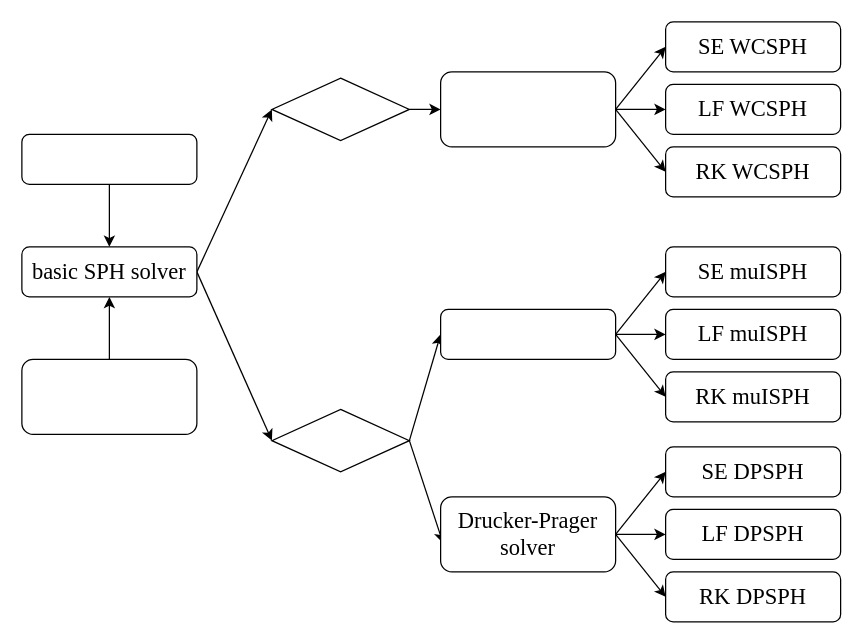
Some shapes in this 863 by 644 pixel diagram are drawn without their labels. Here are the shapes that lost their labels. From the top down, the box of each, then its label:
(271, 77, 409, 141): Fluid
(439, 71, 616, 147): Weakly Compressible
(21, 133, 197, 184): Particle System
(439, 308, 616, 359): mu(I) solver
(21, 358, 197, 434): Boundary treatment method
(271, 408, 409, 472): Soil
